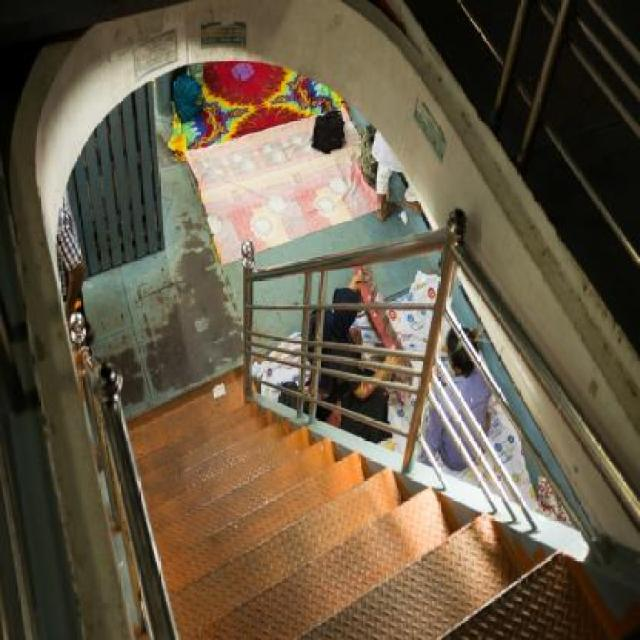stair: (137, 372, 640, 640)
